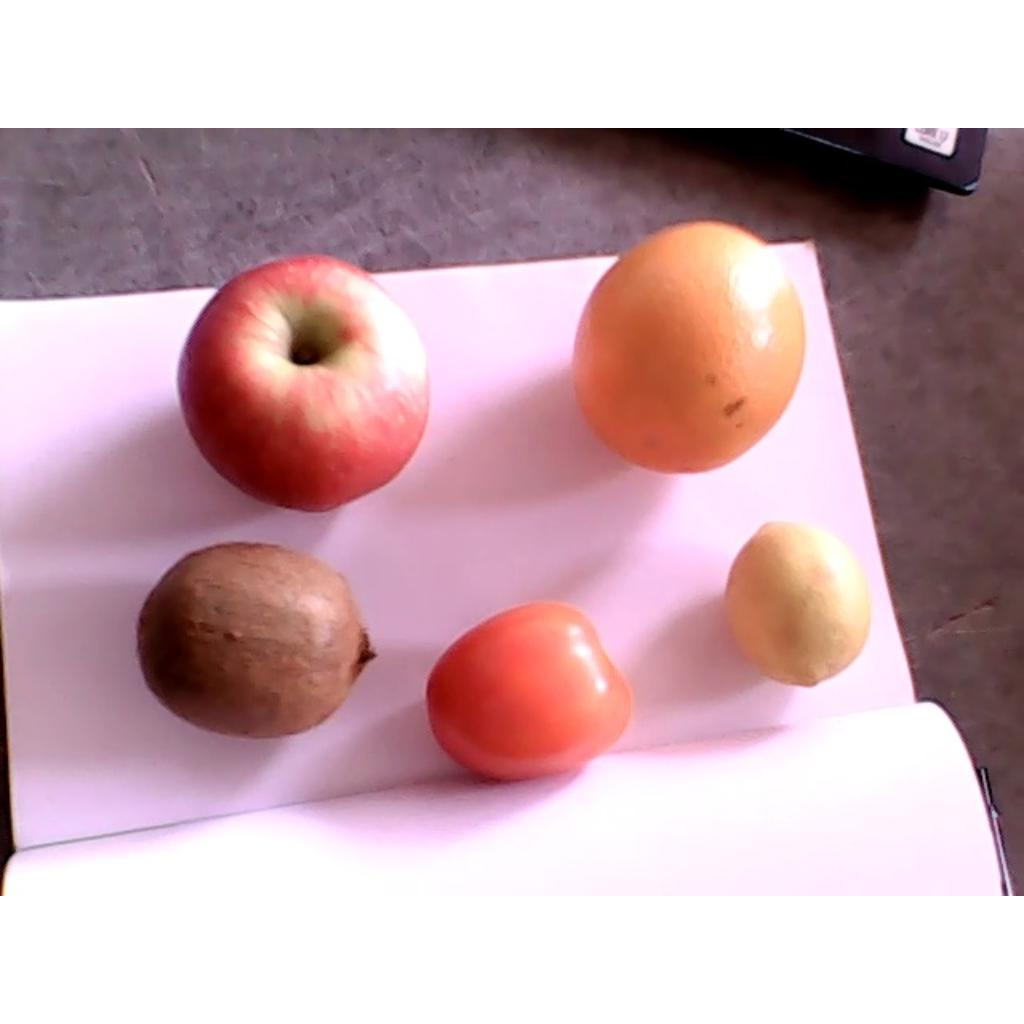apple: (178, 256, 429, 514)
kiwi: (138, 543, 378, 739)
lemon: (726, 522, 872, 687)
orange: (571, 220, 806, 473)
tomato: (426, 601, 631, 782)
